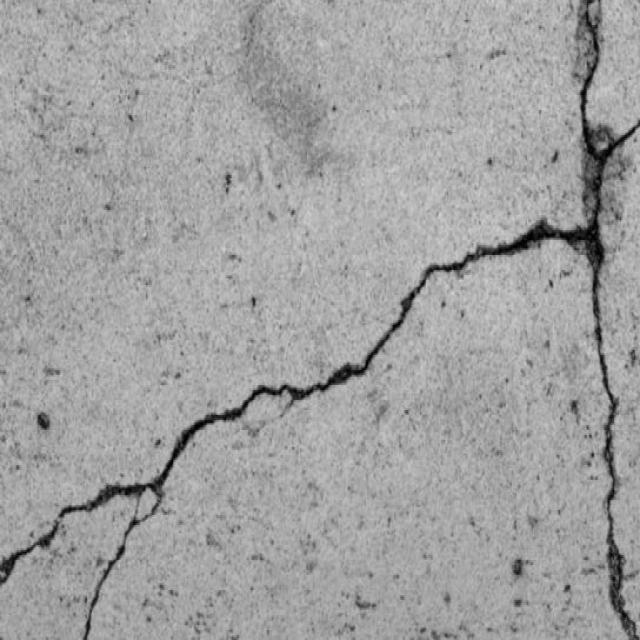SurfaceCrack: (1, 30, 633, 638)
